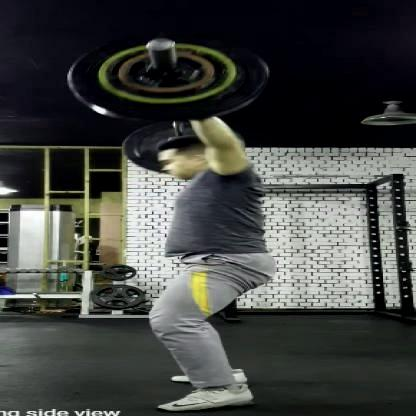Barbell: (143, 37, 180, 54)
